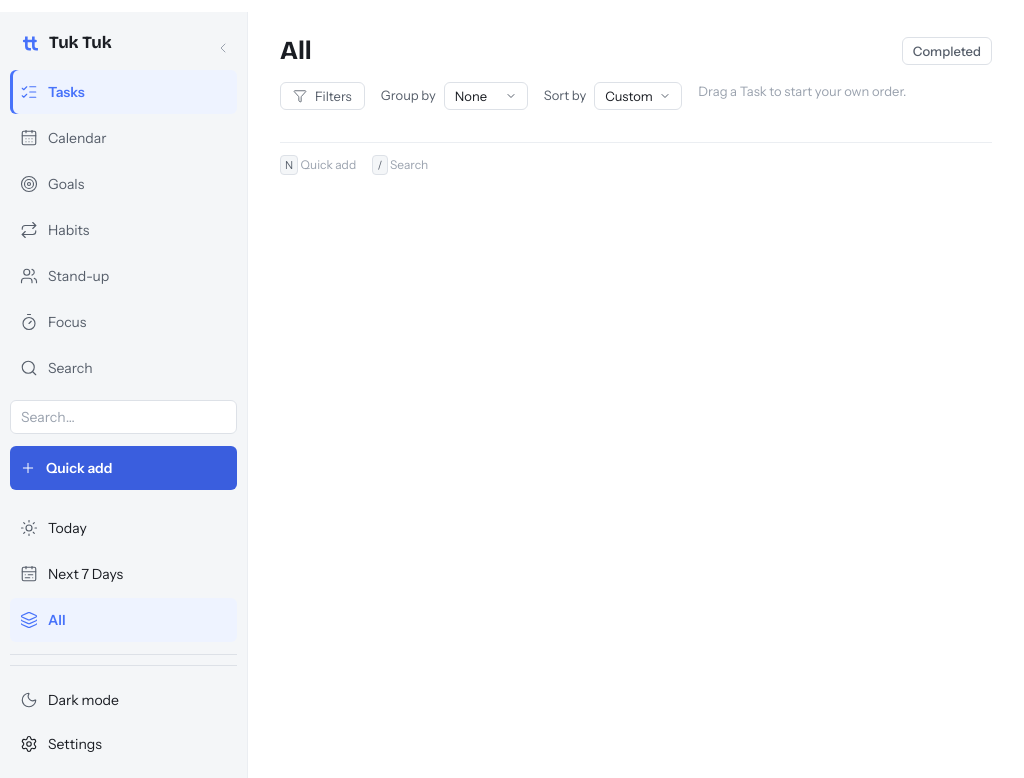
it: Assist settings (ADR 0005) › shows the saved Ollama base URL and model on load
Click the link "Settings" at (61, 744), box [20,734,102,753]
(page scrolled)
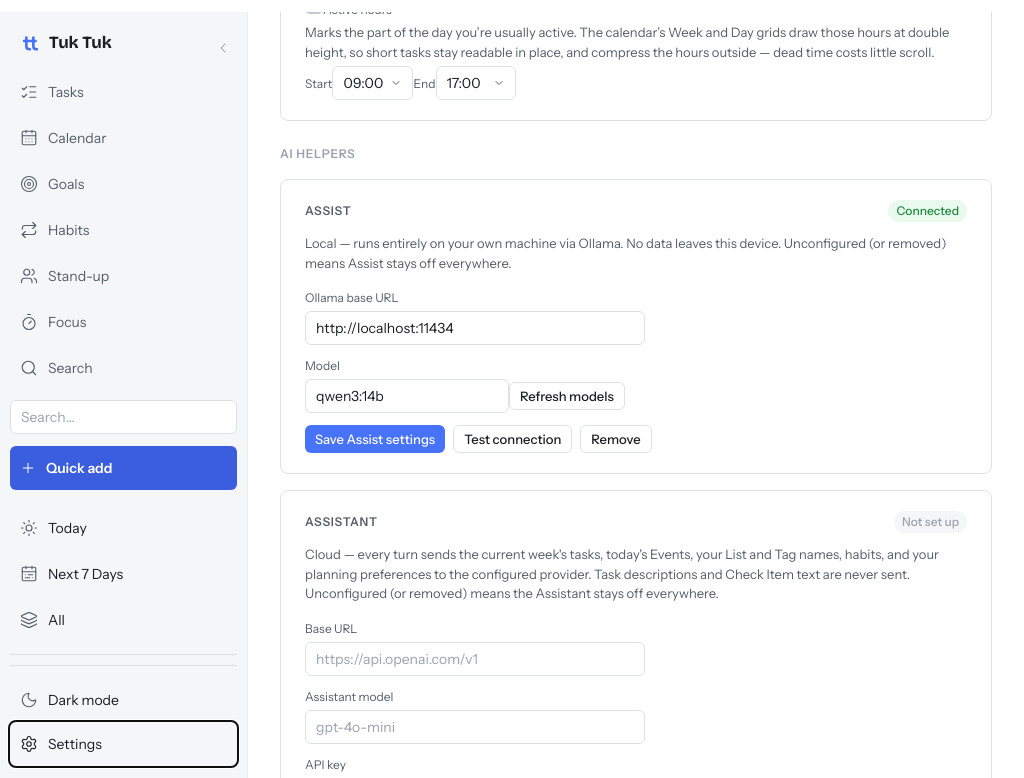
Check: the field labelled "Ollama base URL" holds "http://localhost:11434", box [305,311,645,345]
Check: the field labelled "Model" holds "qwen3:14b", box [305,379,509,413]
